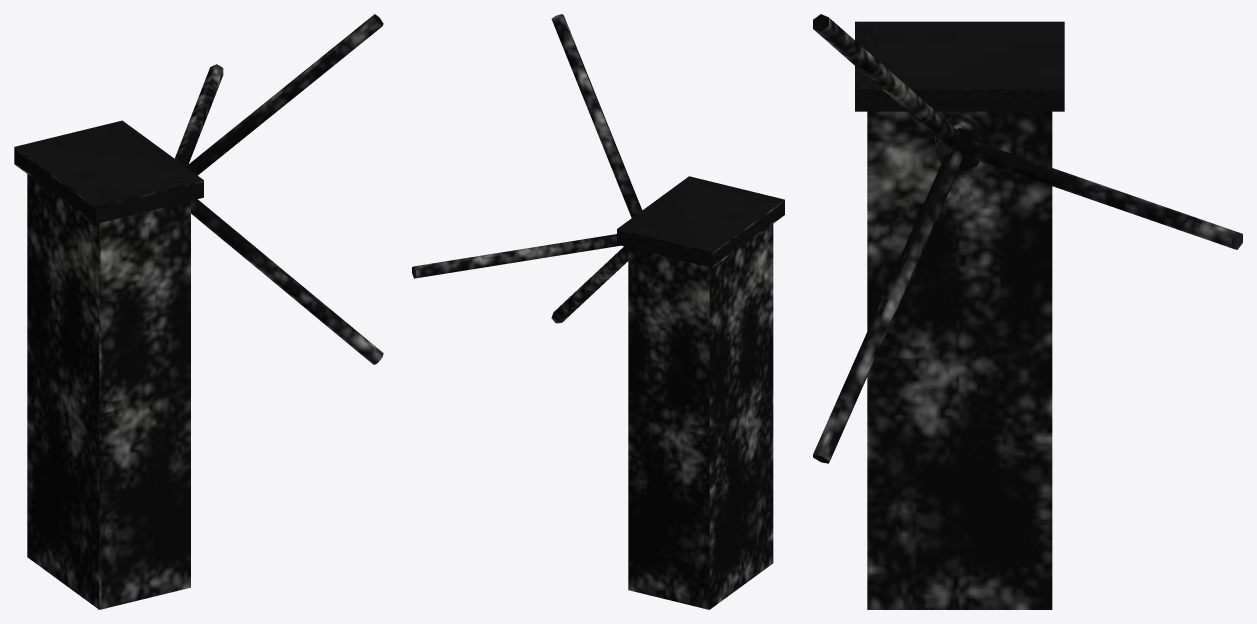
File: turnstile_lod1_web.glb
The picture shows the model from 3 angles, left to right: view 1: azimuth 30°, elevation 25°; view 2: azimuth 150°, elevation 25°; view 3: azimuth 270°, elevation 25°; orthographic projection. The views are drawn at different scales.
Visible parts, largest first — view 1: Turnstile_Body, Turnstile_RotorMesh; view 2: Turnstile_Body, Turnstile_RotorMesh; view 3: Turnstile_Body, Turnstile_RotorMesh.
Boxes of the visible parts, <box> form: Turnstile_Body: <box>14,120,203,609</box>; Turnstile_RotorMesh: <box>174,14,383,364</box>; Turnstile_Body: <box>617,176,784,609</box>; Turnstile_RotorMesh: <box>412,14,642,323</box>; Turnstile_Body: <box>855,21,1064,609</box>; Turnstile_RotorMesh: <box>813,14,1242,463</box>.
Size of the model in its own units: 0.6603 by 1.25 by 0.6966.
1 material, 1 textured.
